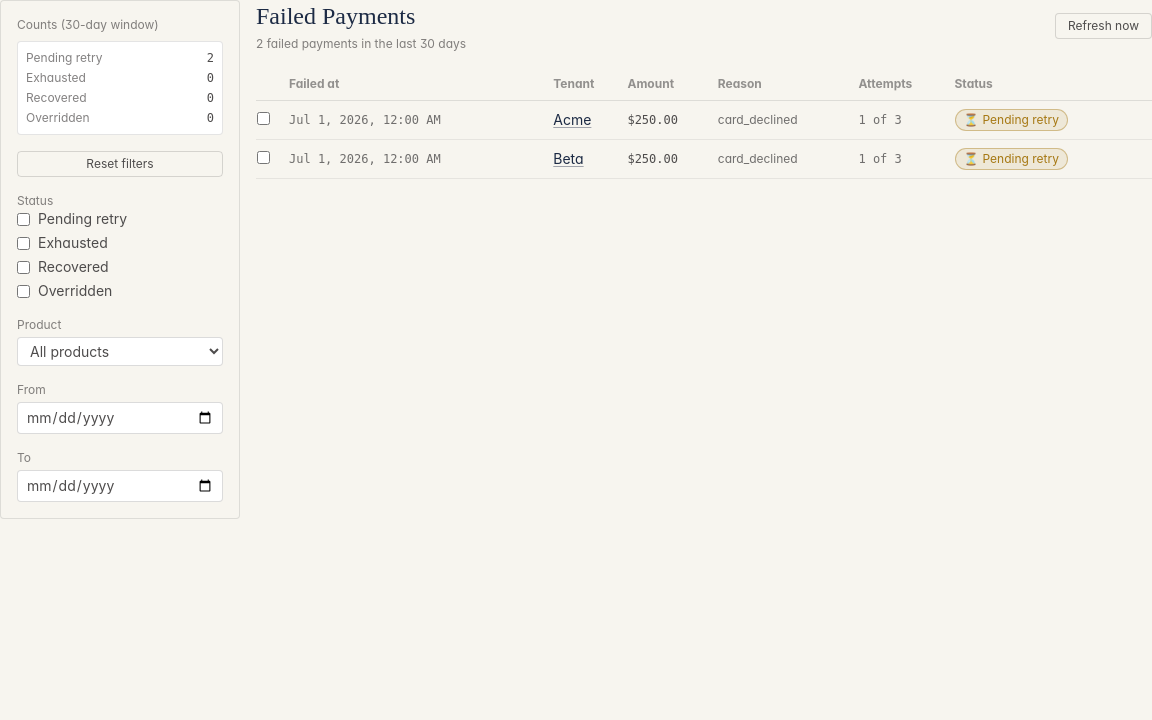
Test: FailedPaymentsBulkEmailBar (HUB-1692) › confirm send → POSTs ids + shows success result
Click the checkbox named "Select Acme" at (264, 118), box left=257, top=112, right=270, bottom=125
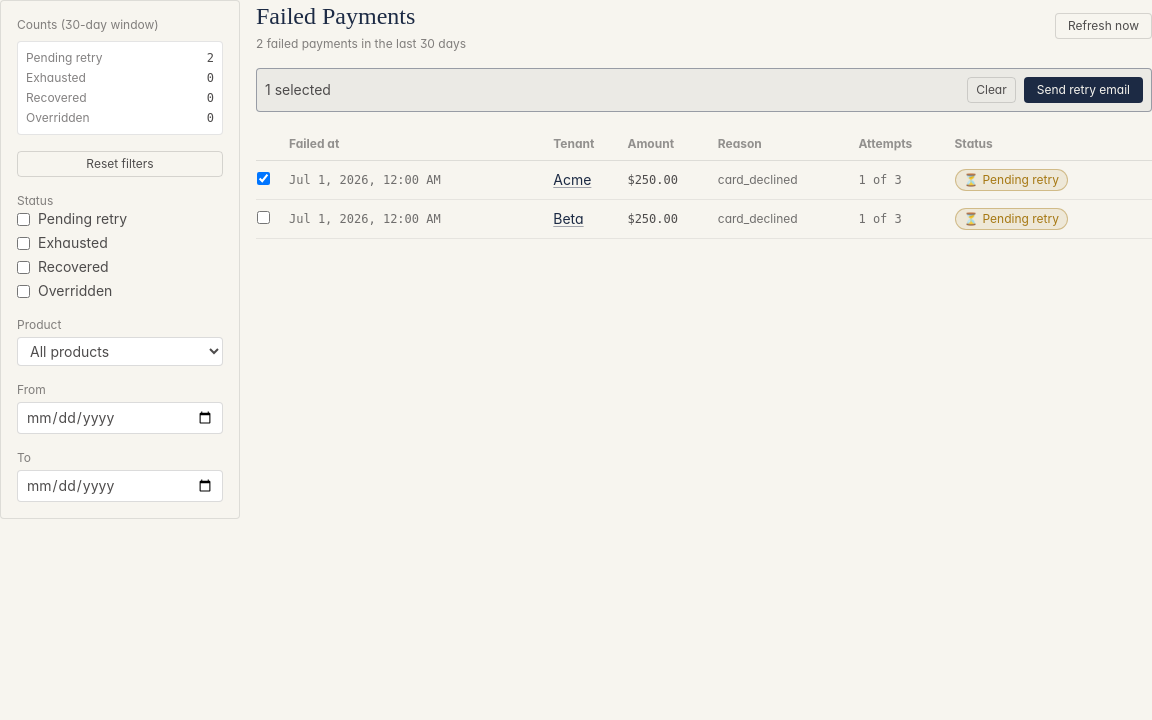
Click the checkbox named "Select Beta" at (264, 218), box left=257, top=211, right=270, bottom=224
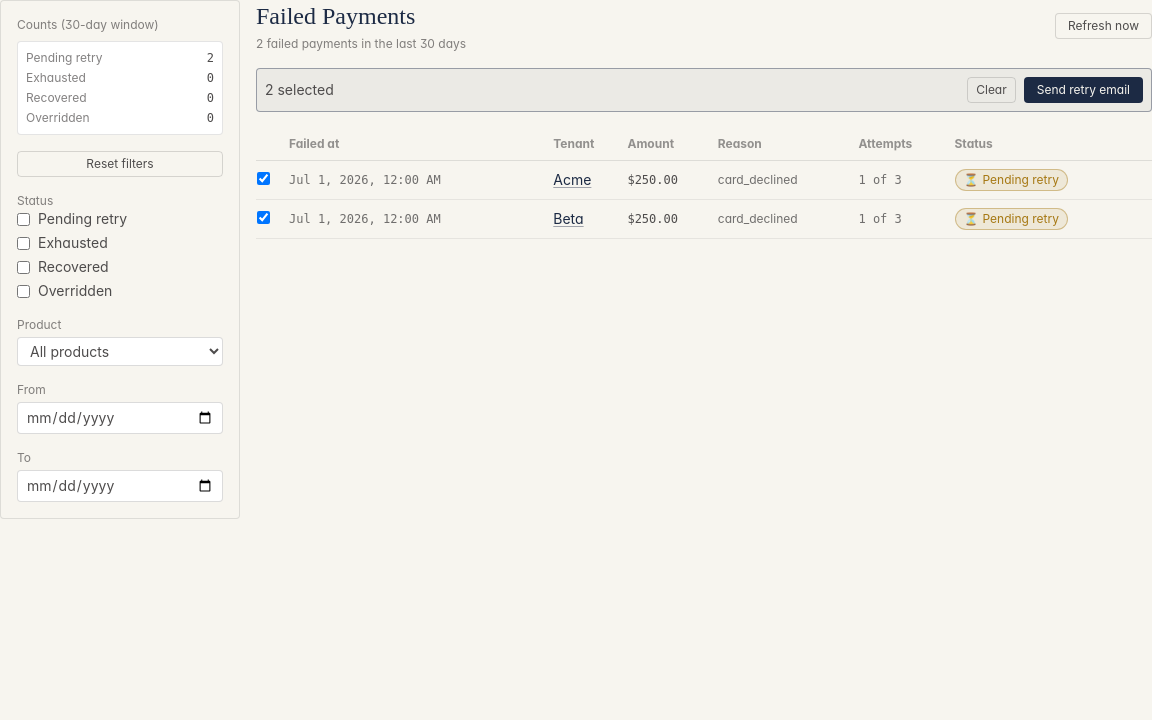
Click the button with test id "failed-payments-bulk-send" at (1083, 90), box left=1024, top=77, right=1143, bottom=103
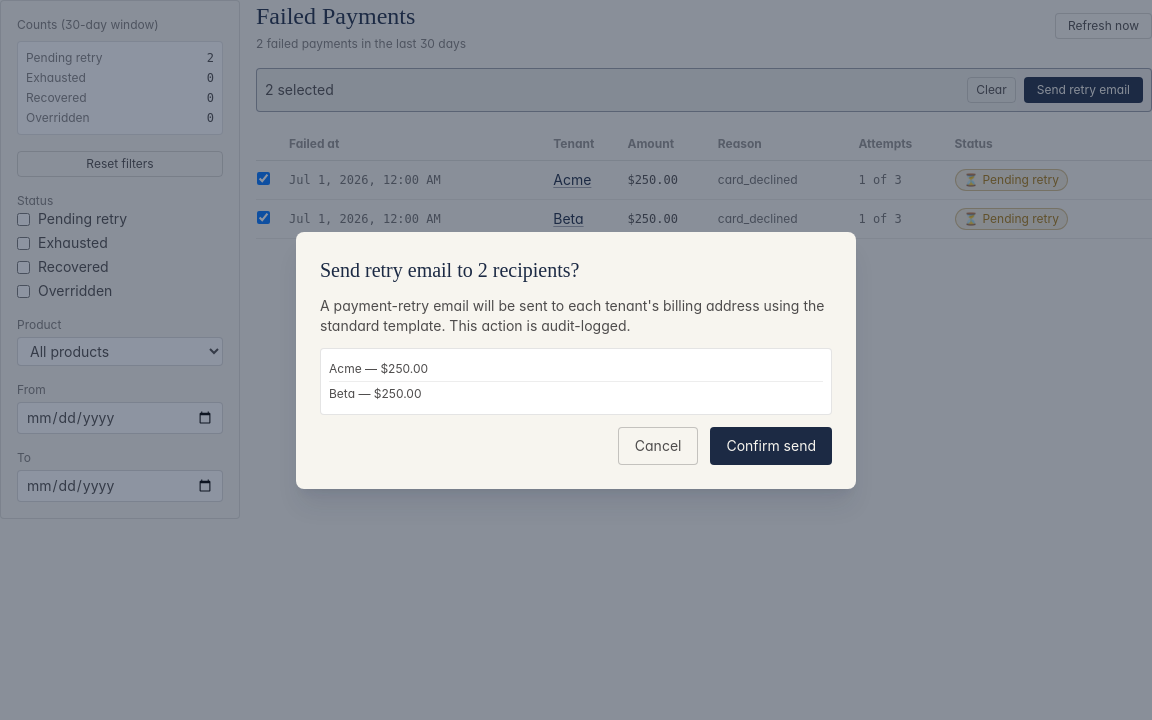
Click the button with test id "failed-payments-bulk-confirm" at (771, 446), box left=710, top=426, right=832, bottom=464
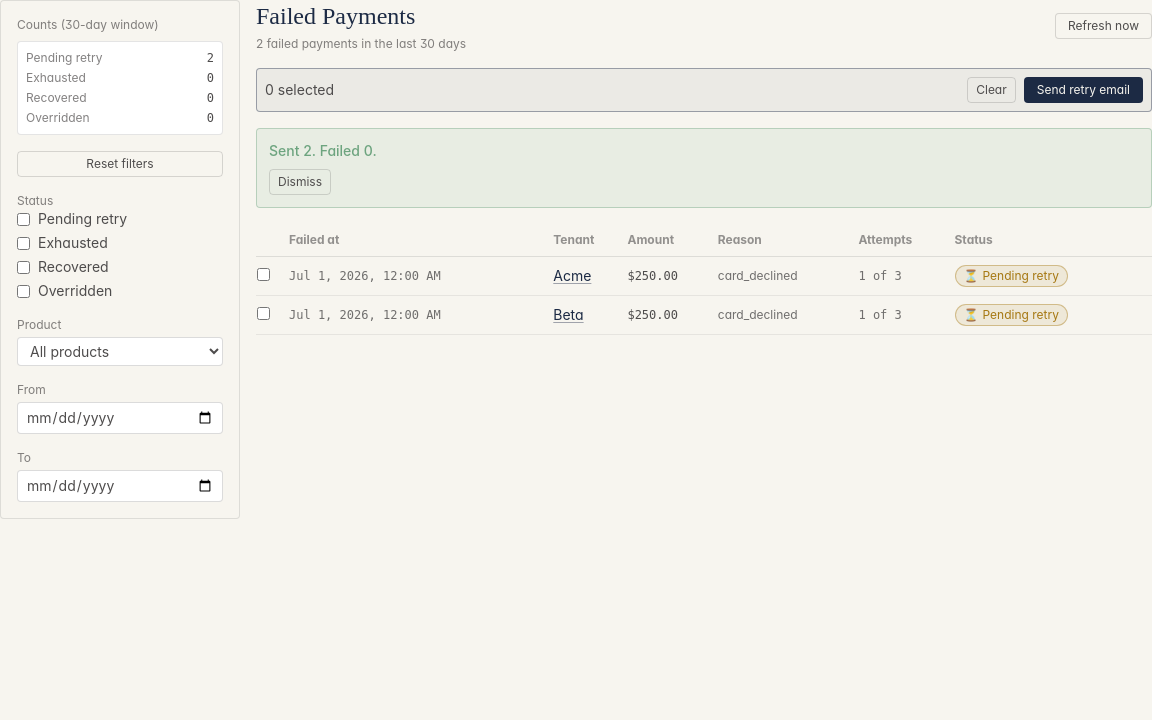
Expected: the message with test id "failed-payments-bulk-result" shows "Sent 2", left=256, top=128, right=1151, bottom=208
